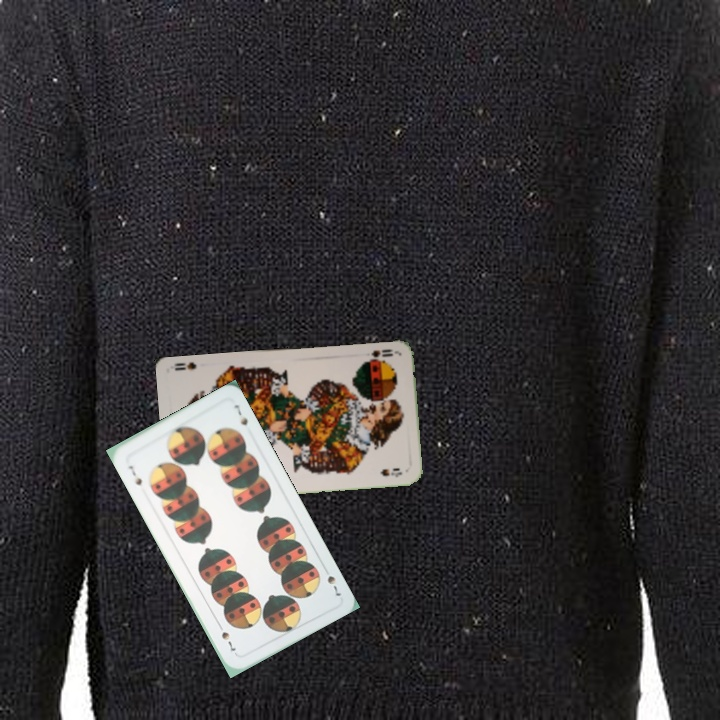S7: (319, 562, 344, 599), (124, 461, 144, 488)
SO: (359, 345, 399, 365)
